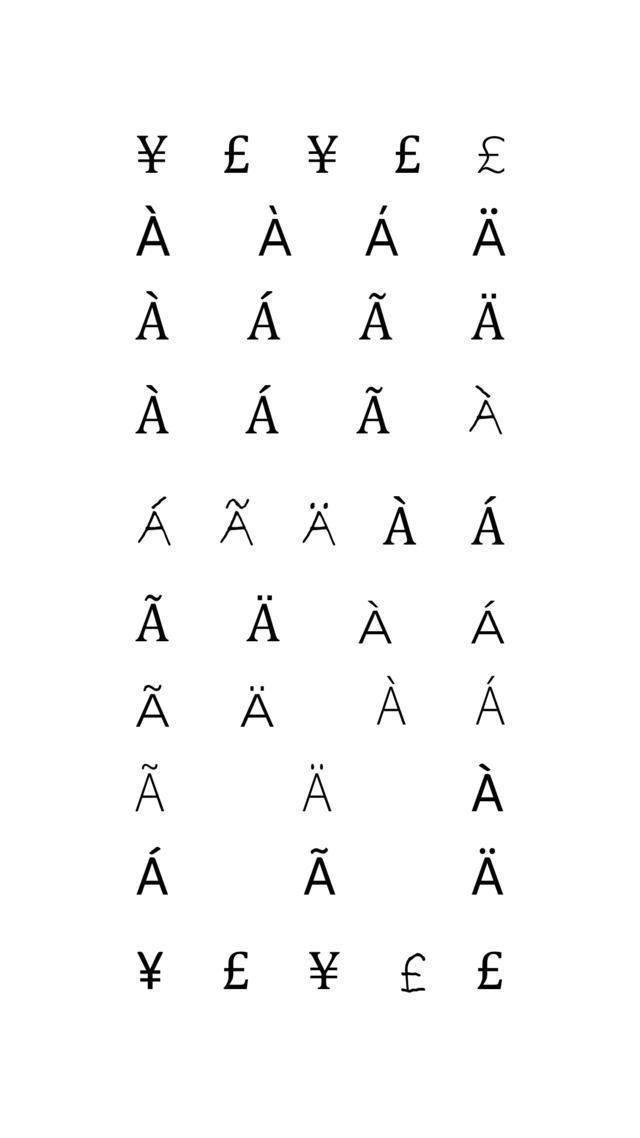ASCII: (464, 372, 510, 448), (379, 485, 422, 563), (242, 376, 286, 452), (132, 375, 174, 450), (352, 376, 394, 450), (214, 486, 258, 556), (468, 484, 508, 561), (134, 486, 177, 554), (297, 490, 340, 557), (356, 284, 398, 352), (245, 583, 285, 654), (255, 198, 295, 268), (363, 198, 403, 268), (245, 284, 286, 352), (298, 842, 340, 908), (236, 676, 278, 741), (133, 284, 173, 352), (468, 838, 507, 907), (469, 285, 508, 354), (372, 672, 410, 742), (298, 752, 336, 822), (131, 754, 170, 822), (133, 587, 173, 653), (134, 202, 174, 268), (468, 756, 508, 822), (306, 939, 346, 1004), (469, 201, 509, 266), (354, 592, 394, 656), (134, 844, 173, 908), (304, 122, 344, 184), (468, 592, 508, 654), (474, 673, 512, 738), (218, 943, 256, 1007), (134, 679, 174, 739), (474, 941, 512, 1004), (134, 122, 173, 182), (394, 948, 430, 1008), (134, 940, 169, 1000), (218, 125, 254, 183), (474, 126, 512, 180), (390, 126, 426, 181)
